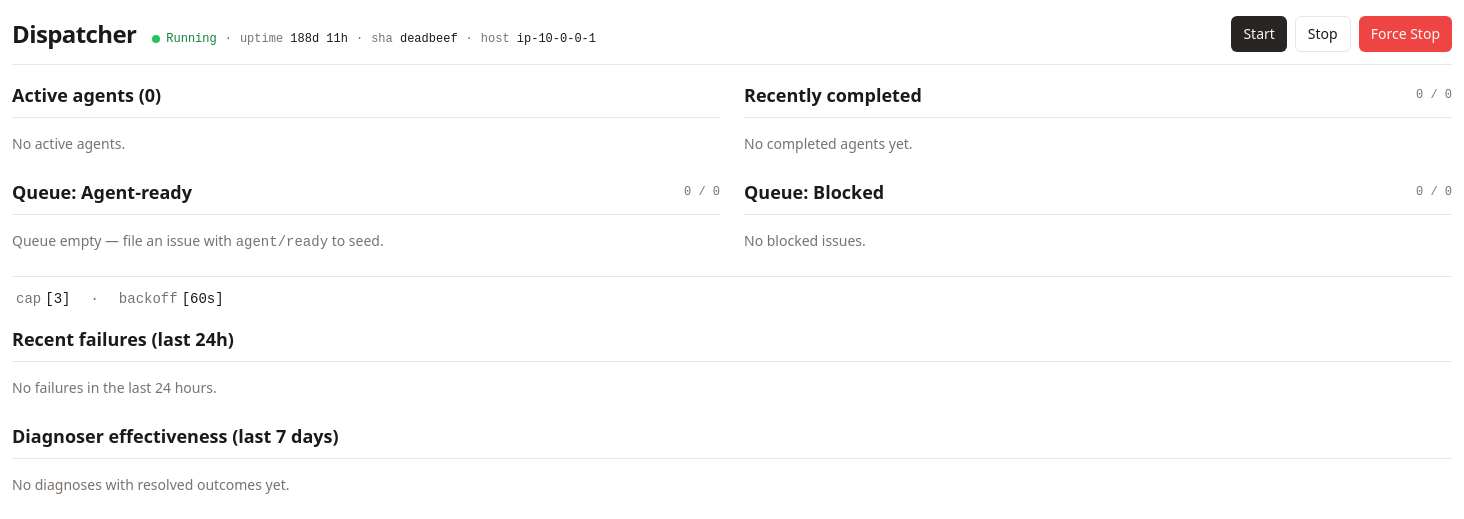
Test case: DispatcherDashboard — config edit lifecycle › Escape cancels an in-progress cap edit without firing the mutation
Click the button with test id "config-value-concurrency_cap": (43, 299) [12,289,74,309]
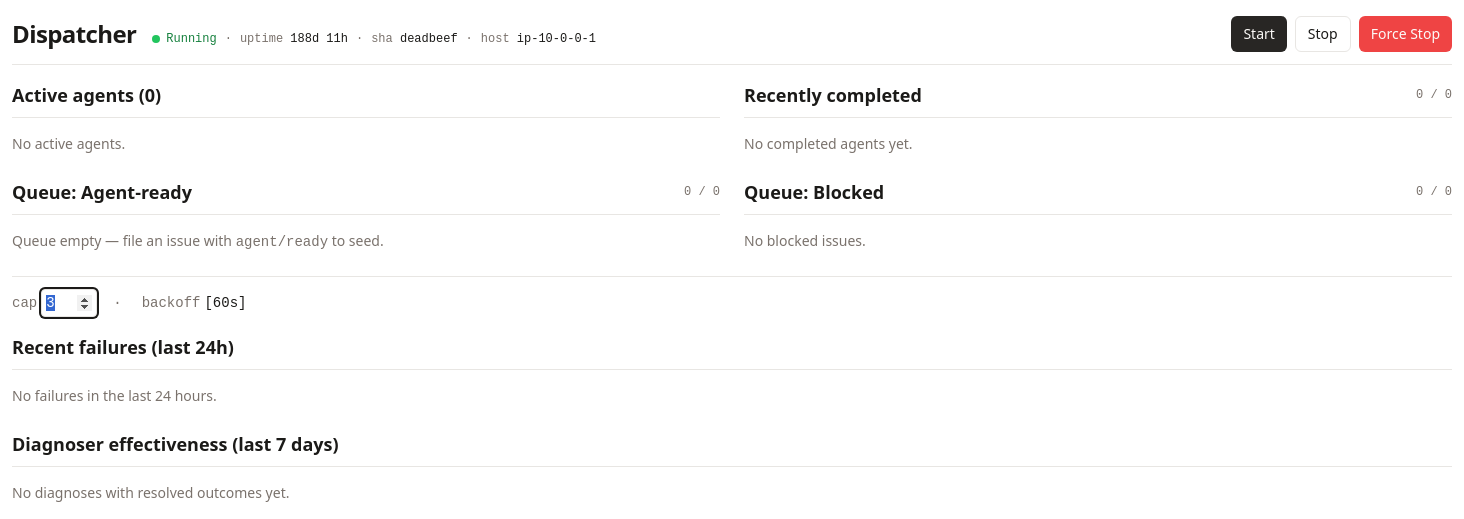
Replace the text in the number field with test id "config-input-concurrency_cap" with "2": (69, 303) [41,289,97,317]
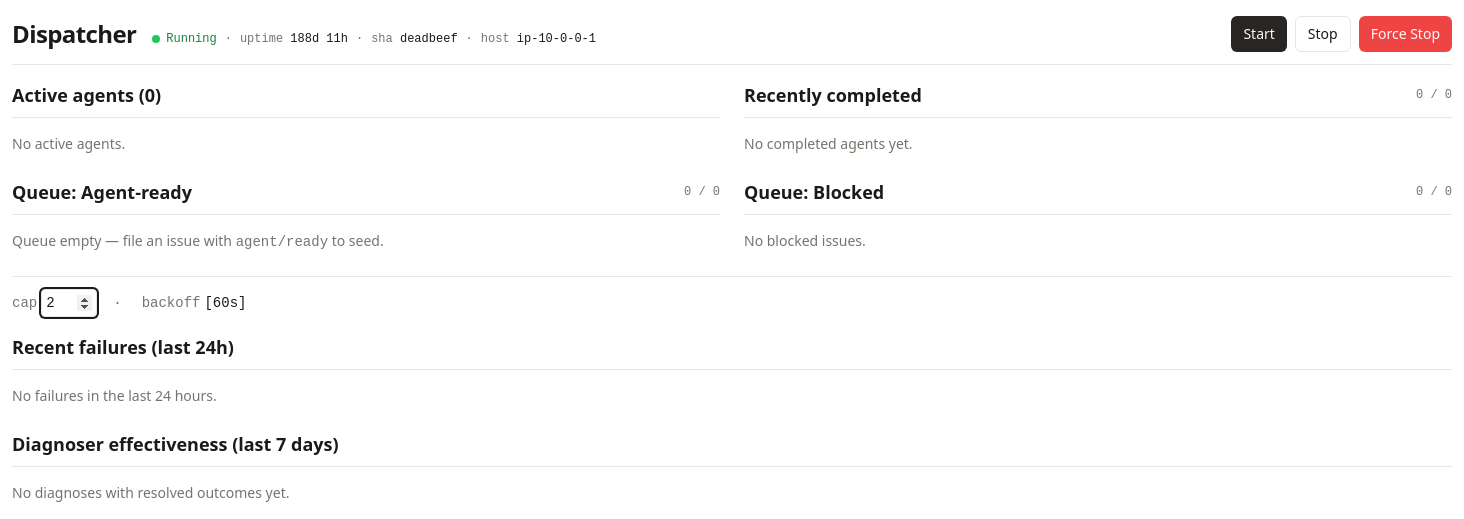
Press Escape in the number field with test id "config-input-concurrency_cap", box [41,289,97,317]
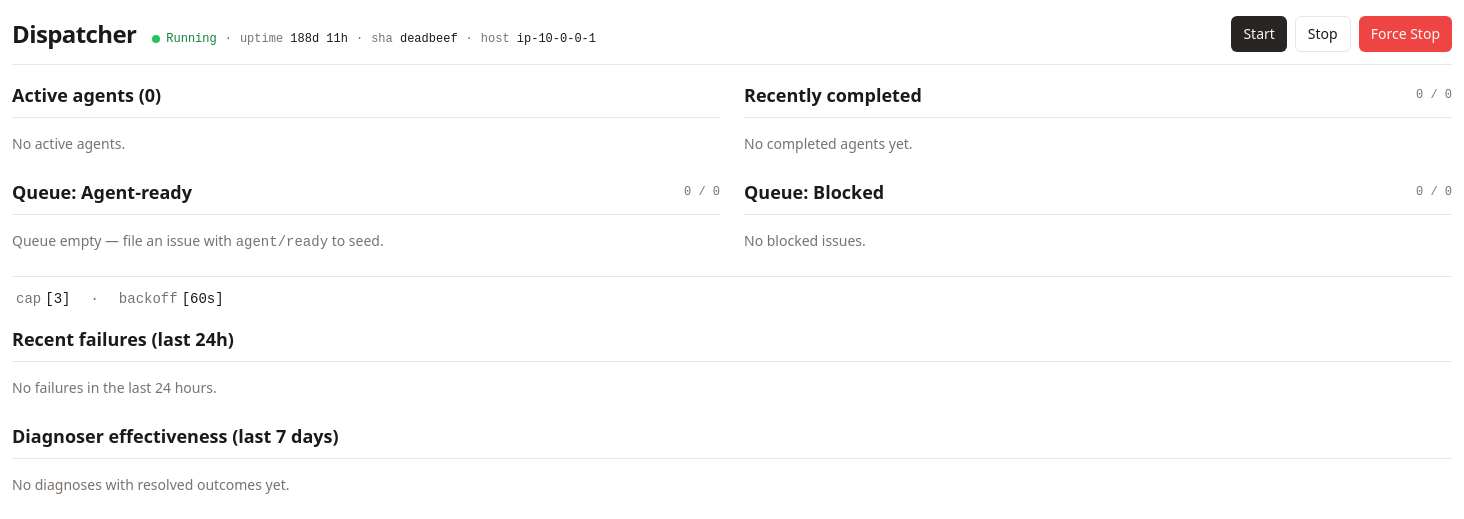
Expected: the button with test id "config-value-concurrency_cap" is shown, [12,289,74,309]
